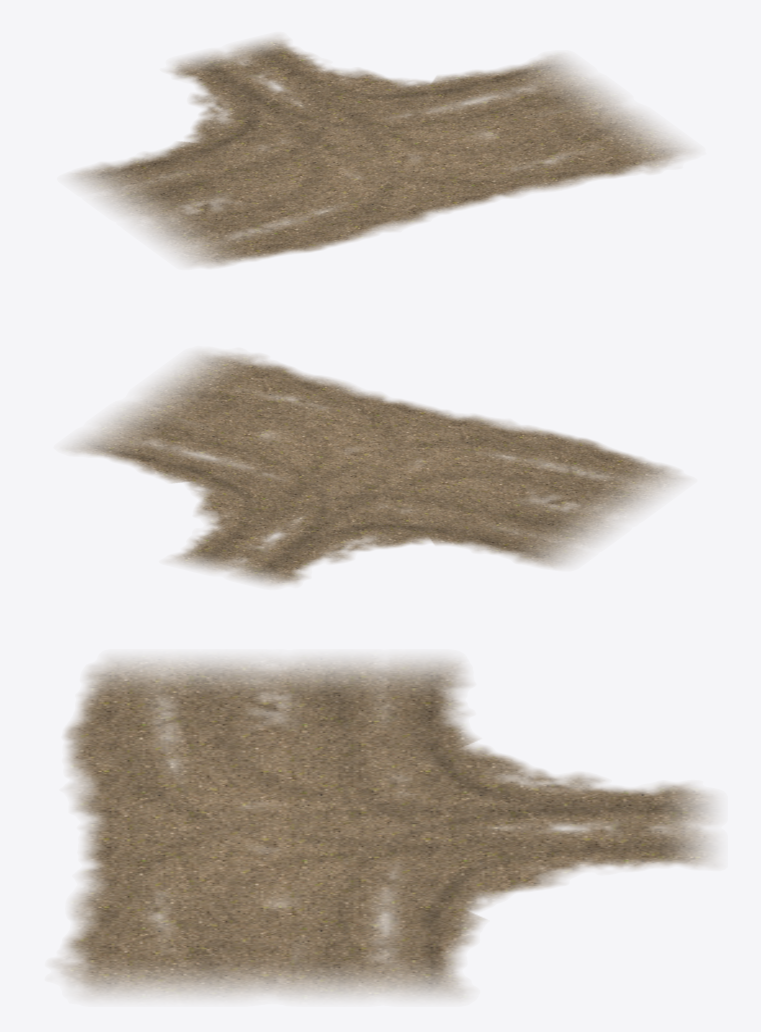
File: road_tee_street_drive.glb
3 renders of one model, top to bottom at view 1: azimuth 30°, elevation 25°; view 2: azimuth 150°, elevation 25°; view 3: azimuth 270°, elevation 25°, orthographic. The views are drawn at different scales.
Visible parts, largest first — view 1: road_tee_street_drive; view 2: road_tee_street_drive; view 3: road_tee_street_drive.
Boxes of the visible parts, x1,y1,x2,y2 form: road_tee_street_drive: [71, 36, 692, 267]; road_tee_street_drive: [66, 351, 684, 585]; road_tee_street_drive: [53, 657, 715, 998].
Size of the model in its own units: 13.96 by 0 by 11.4.
1 material, 1 textured.
